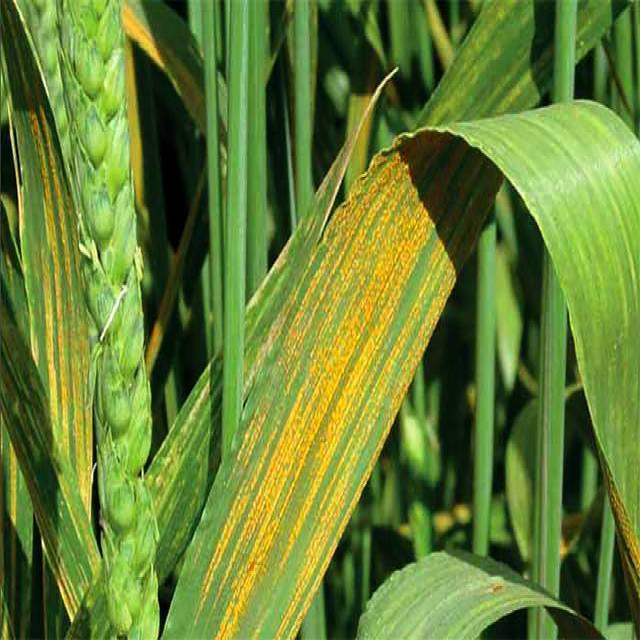wheat-yellowrust: (159, 0, 640, 640)
